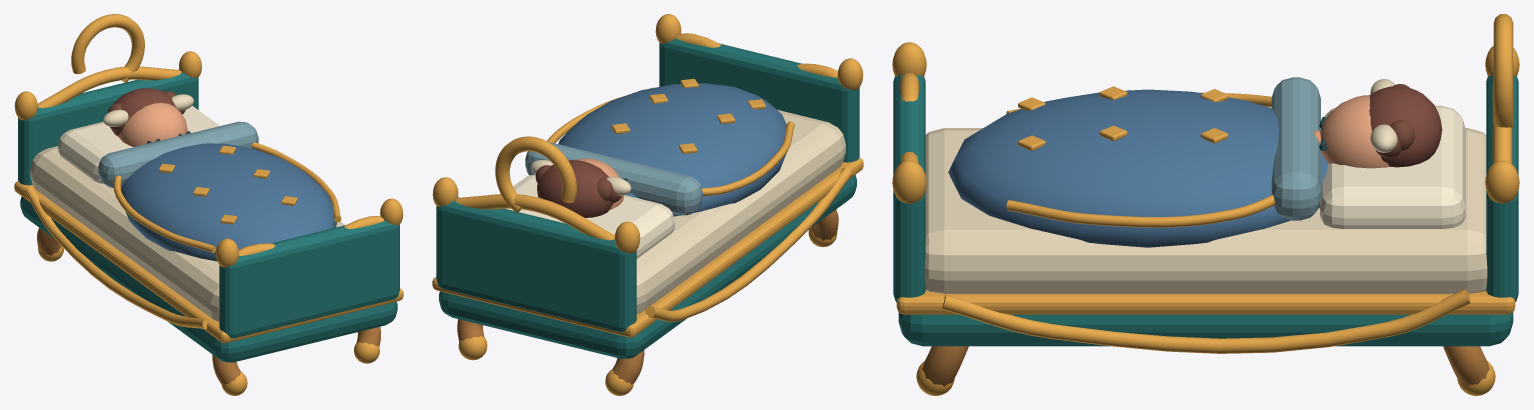
The model's file is moon_couch.glb.
3 renders of one model, left to right at view 1: azimuth 30°, elevation 25°; view 2: azimuth 150°, elevation 25°; view 3: azimuth 270°, elevation 25°, orthographic. The views are drawn at different scales.
Parts seen in each view (by area): view 1: body_267875, quilt_4F789B, body_E4A647, body_E7D8B9, quilt_7EA2AC, body_F8ECD2, quilt_E4A647, head_E7A57E, body_B57B3F, head_79483C, head_E7D8B9; view 2: body_267875, body_E4A647, quilt_4F789B, body_E7D8B9, quilt_7EA2AC, body_F8ECD2, quilt_E4A647, head_79483C, body_B57B3F, head_754839, head_E7D8B9; view 3: body_E7D8B9, quilt_4F789B, body_E4A647, body_267875, body_F8ECD2, quilt_7EA2AC, quilt_E4A647, head_79483C, head_E7A57E, body_B57B3F, head_E7D8B9, head_754839.
Part boxes in pixels (bbox=[...]): body_267875: bbox=[18, 69, 399, 362]; quilt_4F789B: bbox=[121, 143, 336, 261]; body_E4A647: bbox=[14, 14, 403, 395]; body_E7D8B9: bbox=[30, 146, 345, 321]; quilt_7EA2AC: bbox=[98, 121, 258, 187]; body_F8ECD2: bbox=[58, 105, 219, 183]; quilt_E4A647: bbox=[113, 142, 341, 252]; head_E7A57E: bbox=[118, 102, 187, 146]; body_B57B3F: bbox=[37, 228, 380, 385]; head_79483C: bbox=[111, 88, 176, 136]; head_E7D8B9: bbox=[103, 94, 193, 126]; body_267875: bbox=[436, 38, 859, 358]; body_E4A647: bbox=[432, 14, 863, 395]; quilt_4F789B: bbox=[558, 83, 786, 216]; body_E7D8B9: bbox=[636, 109, 845, 313]; quilt_7EA2AC: bbox=[525, 141, 702, 215]; body_F8ECD2: bbox=[505, 174, 674, 258]; quilt_E4A647: bbox=[547, 78, 794, 196]; head_79483C: bbox=[537, 160, 613, 217]; body_B57B3F: bbox=[457, 209, 838, 384]; head_754839: bbox=[535, 165, 621, 203]; head_E7D8B9: bbox=[530, 160, 631, 195]; body_E7D8B9: bbox=[924, 128, 1487, 293]; quilt_4F789B: bbox=[948, 89, 1328, 247]; body_E4A647: bbox=[892, 14, 1519, 395]; body_267875: bbox=[893, 75, 1518, 346]; body_F8ECD2: bbox=[1320, 105, 1465, 228]; quilt_7EA2AC: bbox=[1271, 77, 1320, 220]; quilt_E4A647: bbox=[1006, 86, 1274, 227]; head_79483C: bbox=[1369, 86, 1442, 167]; head_E7A57E: bbox=[1320, 95, 1389, 168]; body_B57B3F: bbox=[922, 346, 1489, 386]; head_E7D8B9: bbox=[1370, 79, 1397, 152]; head_754839: bbox=[1375, 84, 1415, 158].
Bounding box in the file's own units: 1.51 × 1.68 × 2.92.
